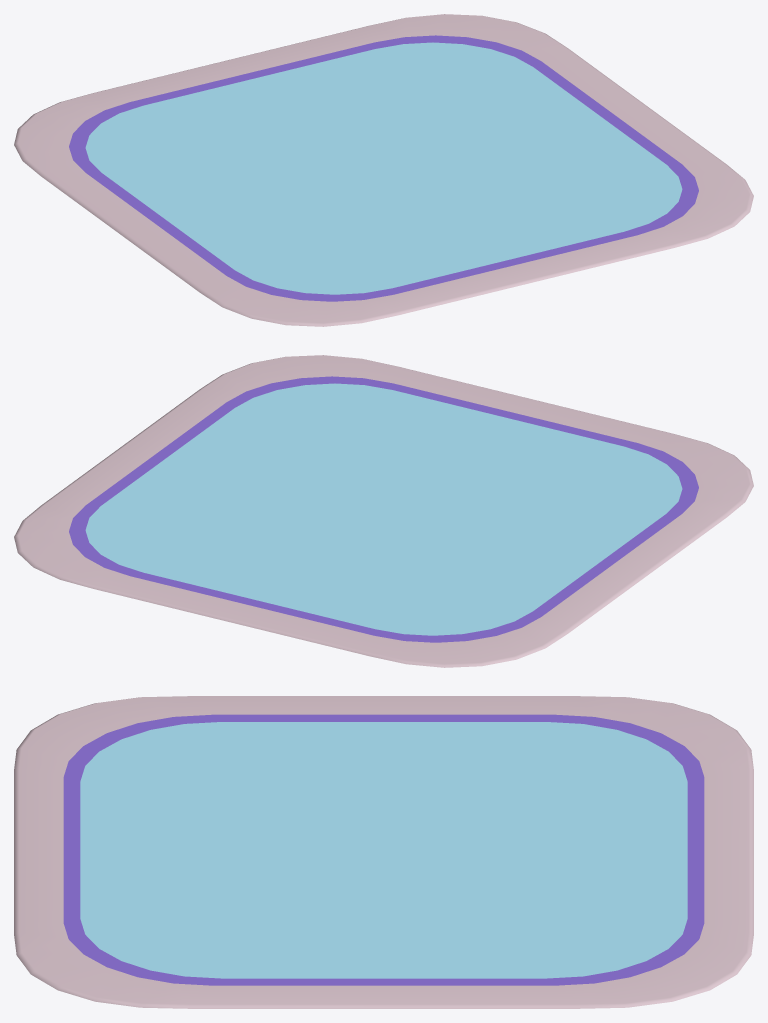
Rendered from floor_box_duck.fbx.
The picture shows the model from 3 angles, top to bottom: view 1: azimuth 30°, elevation 25°; view 2: azimuth 150°, elevation 25°; view 3: azimuth 270°, elevation 25°; orthographic projection. The views are drawn at different scales.
Visible parts, largest first — view 1: floor_box_duck; view 2: floor_box_duck; view 3: floor_box_duck.
Boxes of the visible parts, x1=… form: floor_box_duck: x1=14, y1=14, x2=753, y2=326; floor_box_duck: x1=14, y1=355, x2=753, y2=667; floor_box_duck: x1=14, y1=696, x2=753, y2=1008.
Size of the model in its own units: 509 by 1.72 by 509.
